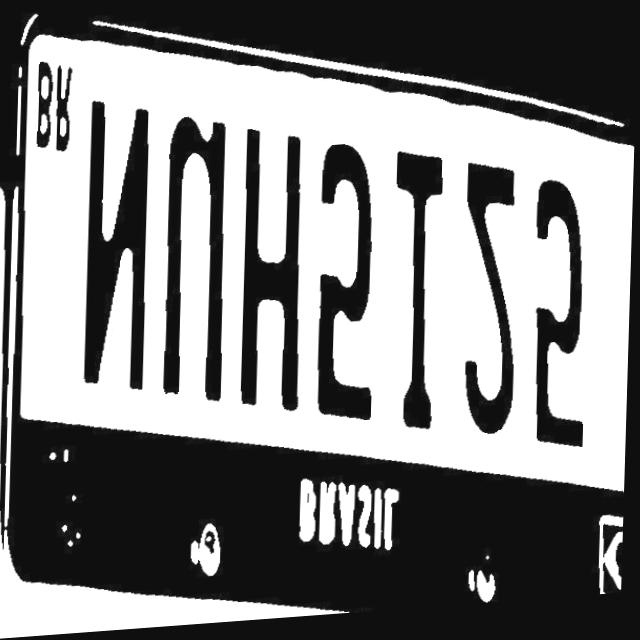2: (454, 158, 532, 458)
5: (313, 142, 381, 437), (535, 179, 599, 470)
h: (236, 128, 310, 417)
i: (389, 144, 457, 447)
n: (79, 76, 163, 402)
u: (156, 99, 239, 418)
